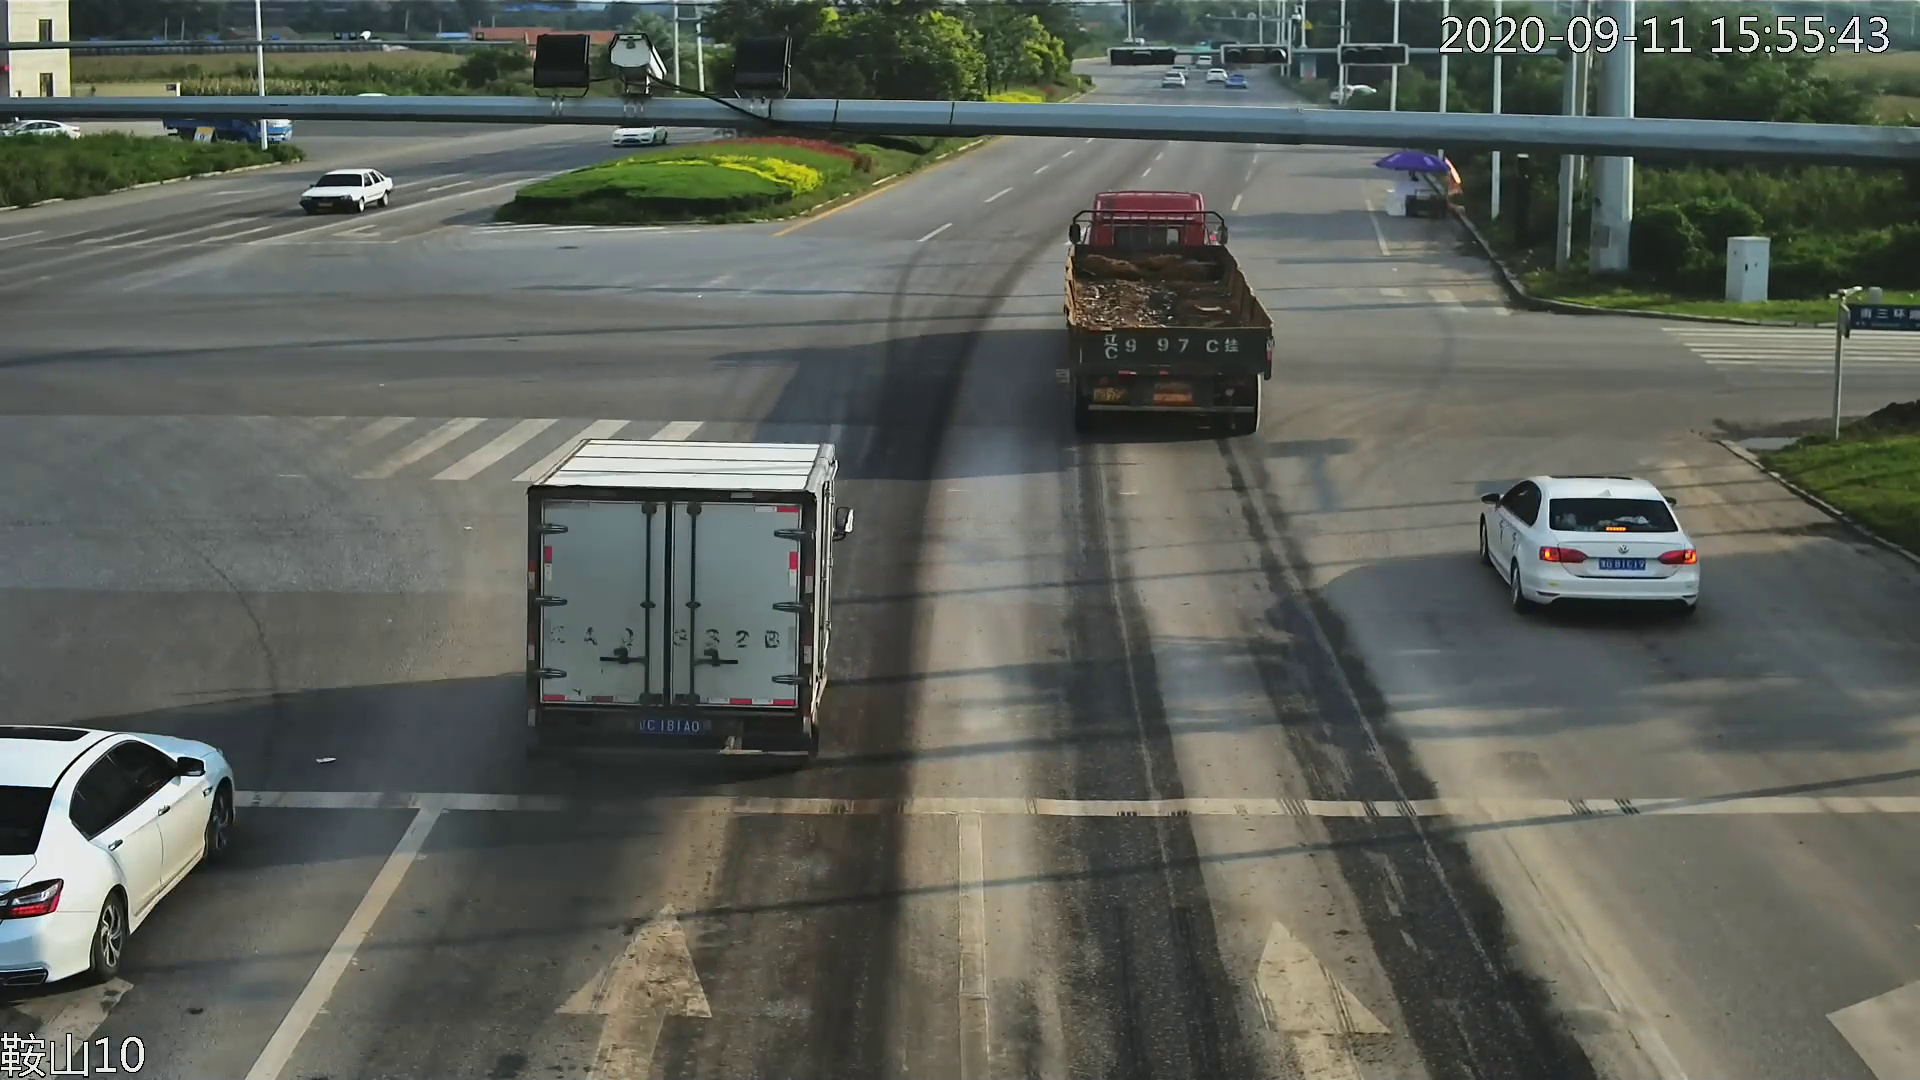normal: (1091, 206, 1263, 521), (1502, 460, 1716, 641)
smoky: (535, 489, 802, 894)
